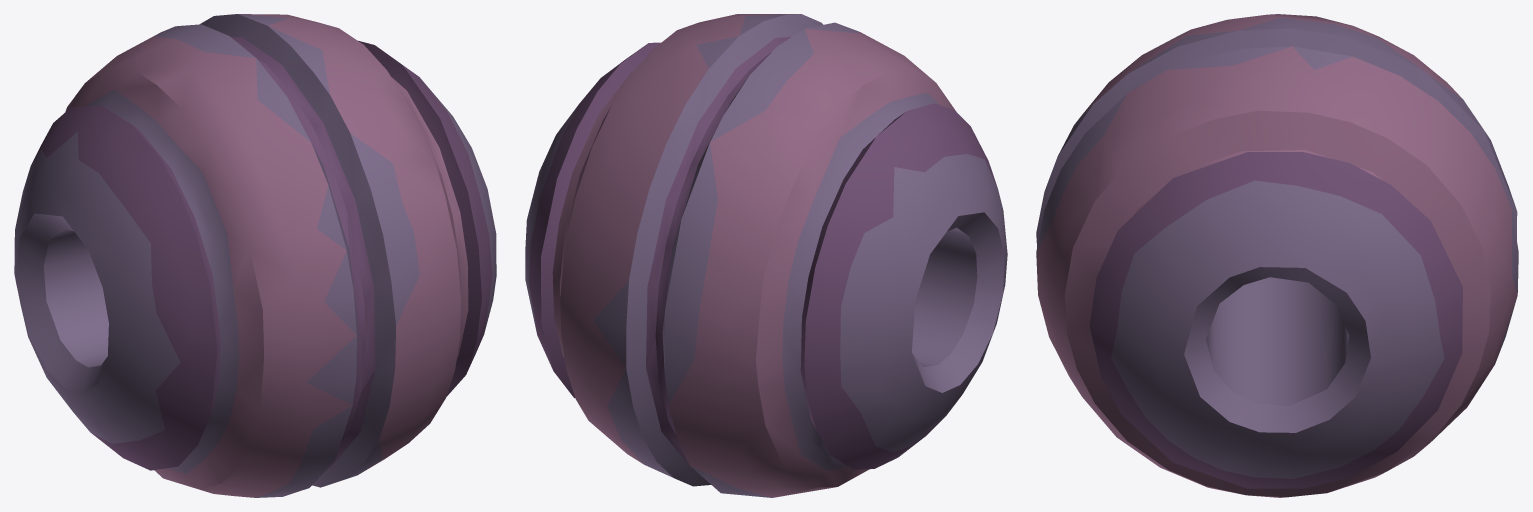
Rendered from planet-8.glb.
The picture shows the model from 3 angles, left to right: view 1: azimuth 30°, elevation 25°; view 2: azimuth 150°, elevation 25°; view 3: azimuth 270°, elevation 25°; orthographic projection.
Parts seen in each view (by area): view 1: Planet_8; view 2: Planet_8; view 3: Planet_8.
Part boxes in pixels (x1,y1,x2,y2): Planet_8: (14, 14, 496, 497); Planet_8: (525, 14, 1007, 497); Planet_8: (1036, 14, 1518, 497).
Size of the model in its own units: 110 by 120 by 120.
1 material, 1 textured.
